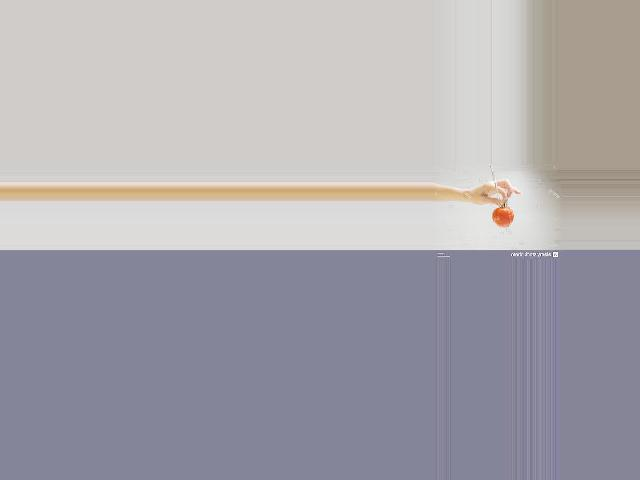tomato: (490, 207, 512, 228)
